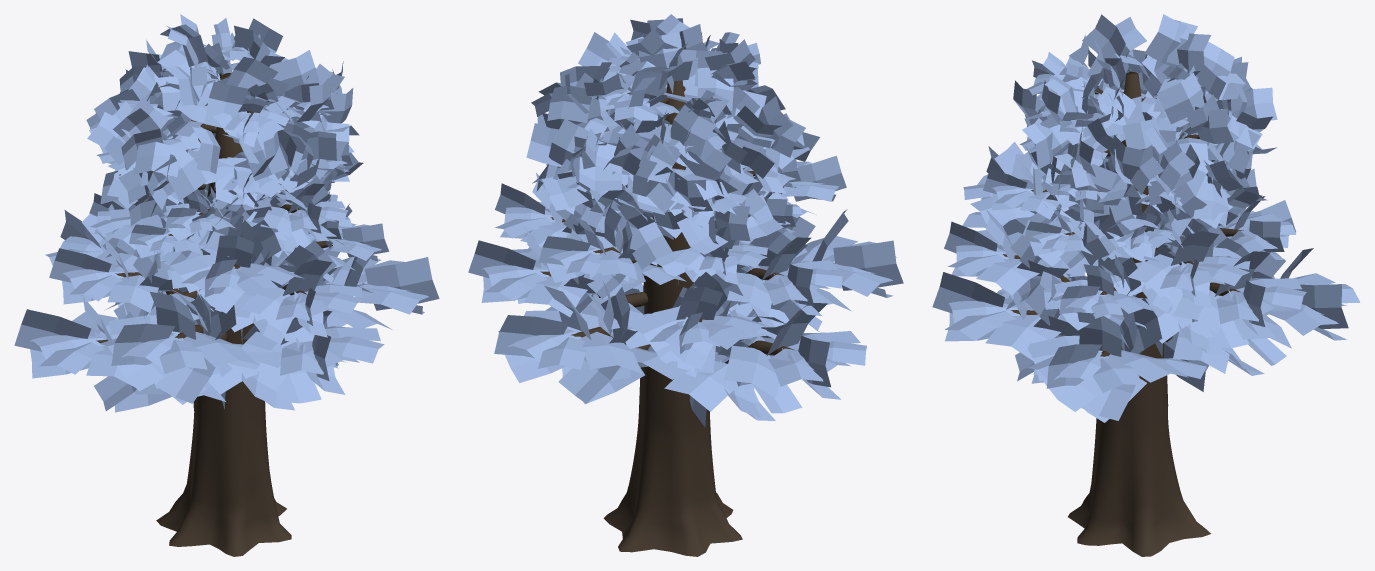
The model's file is BigTree_01.fbx.
The picture shows the model from 3 angles, left to right: view 1: azimuth 30°, elevation 25°; view 2: azimuth 150°, elevation 25°; view 3: azimuth 270°, elevation 25°; orthographic projection.
Visible parts, largest first — view 1: OGBranch.000_backup, Plane.001, tree32; view 2: OGBranch.000_backup, Plane.001, tree32; view 3: OGBranch.000_backup, Plane.001, tree32.
Part boxes in pixels (x1=…): OGBranch.000_backup: x1=14, y1=32, x2=439, y2=412; Plane.001: x1=86, y1=14, x2=363, y2=256; tree32: x1=156, y1=73, x2=291, y2=556; OGBranch.000_backup: x1=468, y1=32, x2=903, y2=427; Plane.001: x1=526, y1=14, x2=819, y2=269; tree32: x1=603, y1=80, x2=742, y2=556; OGBranch.000_backup: x1=932, y1=52, x2=1360, y2=422; Plane.001: x1=1011, y1=14, x2=1277, y2=270; tree32: x1=1068, y1=72, x2=1210, y2=556.
Size of the model in its own units: 8526 by 11023 by 8582.
